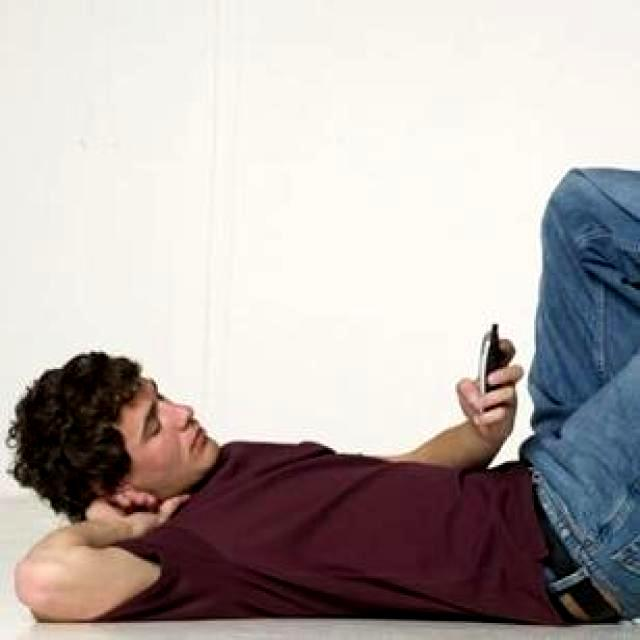no_head_wear: (8, 352, 148, 518)
person: (10, 162, 638, 623)
